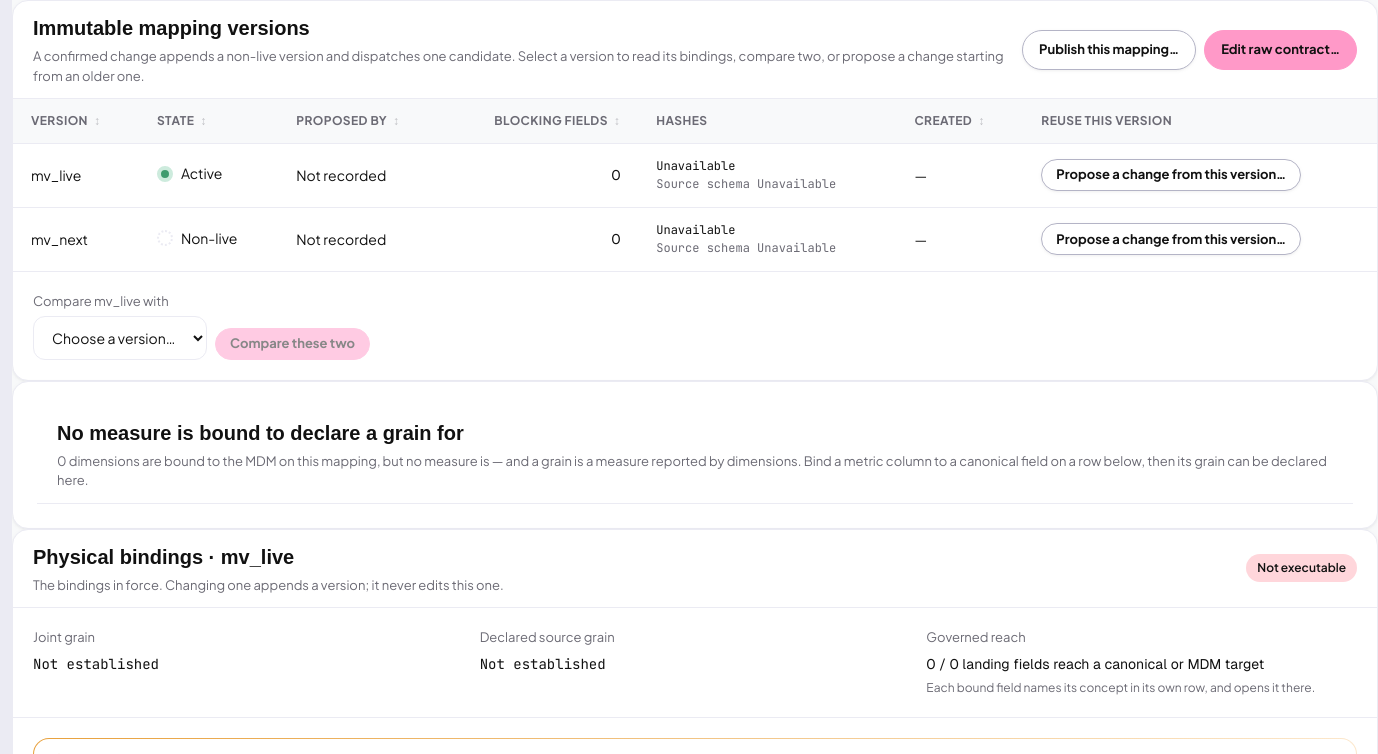
Scenario: Mapping tab — governed publication › no longer tells the reader that Outputs moves the mapping pointer
The width and height of the screenshot is (1378, 754).
What coordinates should you click on to do the following:
click the cell "mv_next"
I would click on:
 (76, 239)
Its box is [13, 207, 139, 271].
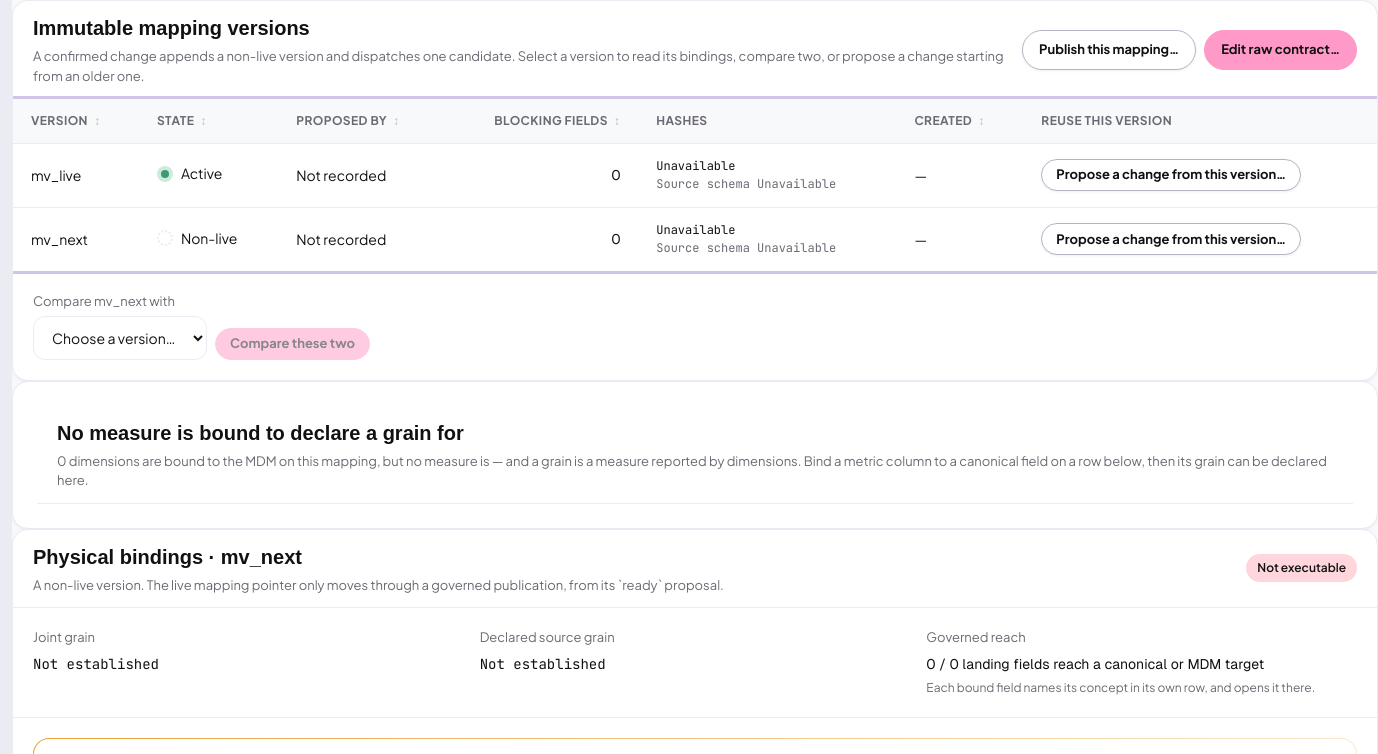
Result: the text "only moves through a governed publication" is shown at [33, 576, 724, 592]
